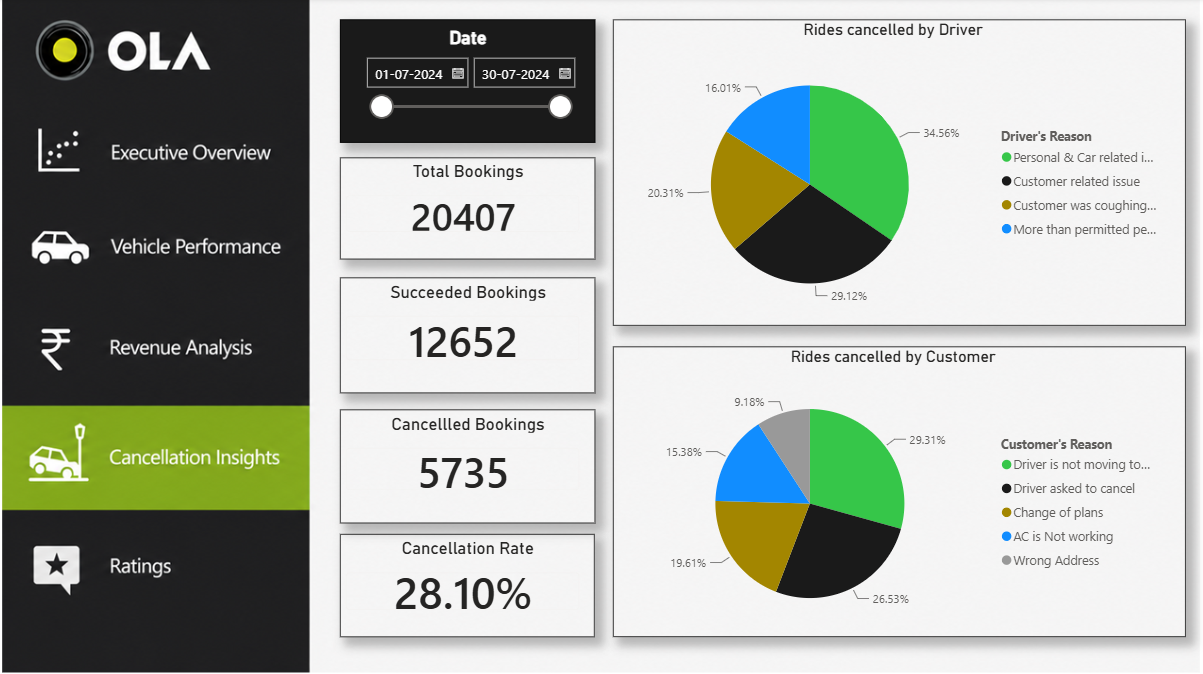

The dashboard page shown, as its layout file describes it:
{"tool":"powerbi","page":{"name":"Cancellation","canvas":[1280,720],"ordinal":3},"visuals":[{"type":"actionButton","box":[6.4,558.3,318.1,87.5],"z":0},{"type":"actionButton","box":[6.4,432.6,318.1,114.5],"z":1000},{"type":"actionButton","box":[6.4,332.4,318.1,76.3],"z":2000},{"type":"actionButton","box":[6.4,224.3,318.1,84.3],"z":3000},{"type":"actionButton","box":[6.4,124.1,318.1,81.1],"z":4000},{"type":"pieChart","title":"Rides cancelled by Driver","fields":{"Category":["Bookings.Canceled_Rides_by_Driver"],"Y":["CountNonNull(Bookings.Canceled_Rides_by_Driver)"]},"box":[652.2,23.9,607.6,324.5],"z":5000},{"type":"slicer","title":"Date","fields":{"Values":["Bookings.Date"]},"box":[362.7,23.9,270.4,130.4],"z":6000},{"type":"cardVisual","title":"Total Bookings","fields":{"Data":["CountNonNull(Bookings.Booking_ID)"]},"box":[362.7,170.2,270.4,108.2],"z":7000},{"type":"cardVisual","title":"Succeeded Bookings","fields":{"Data":["CountNonNull(Bookings.Booking_ID)"]},"box":[362.7,297.4,270.4,122.5],"z":8000},{"type":"cardVisual","title":"Cancellled Bookings","fields":{"Data":["CountNonNull(Bookings.Booking_ID)"]},"box":[362.7,437.4,270.4,120.9],"z":9000},{"type":"cardVisual","title":"Cancellation Rate","fields":{"Data":["Bookings.Cancellation Rate 2"]},"box":[362.7,569.4,270,109.2],"z":10000},{"type":"pieChart","title":"Rides cancelled by Customer","fields":{"Category":["Bookings.Canceled_Rides_by_Customer"],"Y":["CountNonNull(Bookings.Canceled_Rides_by_Customer)"]},"box":[652.2,370.6,607.6,307.8],"z":11000}]}

Visuals, with their boxes in screenshot pixels (x1, y1, x2, y2), scaled from the page's 1280x720 canvas onto the 1203x674 screenshot:
actionButton: 6 523 305 605
actionButton: 6 405 305 512
actionButton: 6 311 305 383
actionButton: 6 210 305 289
actionButton: 6 116 305 192
"Rides cancelled by Driver" pieChart: 613 22 1184 326
"Date" slicer: 341 22 595 144
"Total Bookings" cardVisual: 341 159 595 261
"Succeeded Bookings" cardVisual: 341 278 595 393
"Cancellled Bookings" cardVisual: 341 409 595 523
"Cancellation Rate" cardVisual: 341 533 595 635
"Rides cancelled by Customer" pieChart: 613 347 1184 635
